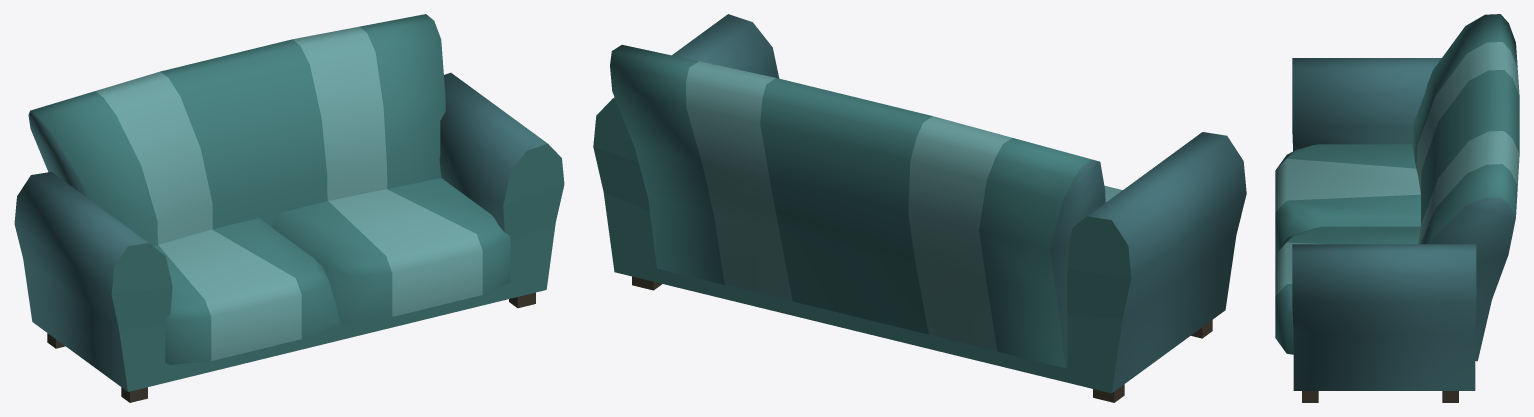
File: sofa_01.fbx
3 renders of one model, left to right at view 1: azimuth 30°, elevation 25°; view 2: azimuth 150°, elevation 25°; view 3: azimuth 270°, elevation 25°, orthographic. The views are drawn at different scales.
Visible parts, largest first — view 1: couch_01; view 2: couch_01; view 3: couch_01.
Boxes of the visible parts, x1,y1,x2,y2 form: couch_01: [14, 14, 564, 402]; couch_01: [593, 14, 1246, 402]; couch_01: [1275, 14, 1519, 402].
Size of the model in its own units: 202 by 93.56 by 99.25.
